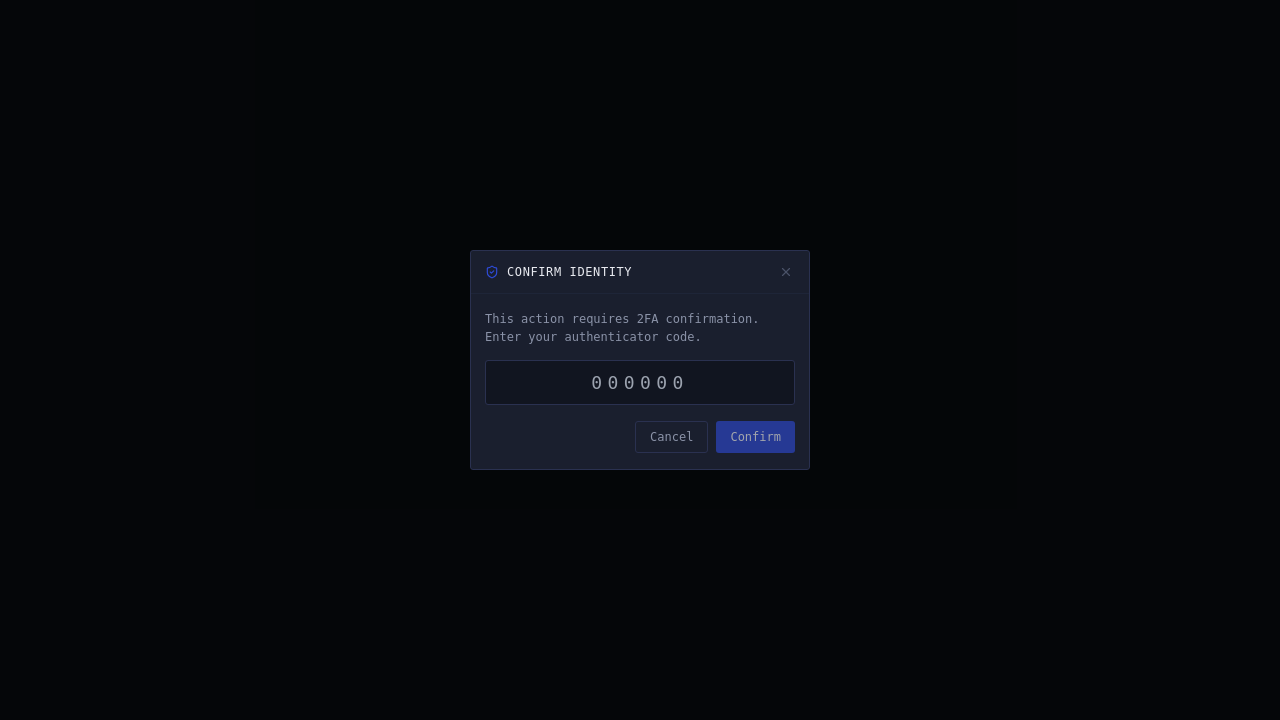
Test: StepUpModal — Confirm button gate › should enable Confirm button only when exactly 6 digits are entered
Type "123456" into the field with placeholder "000000".
click(640, 382); type("123456")  # box [485,360,795,405]
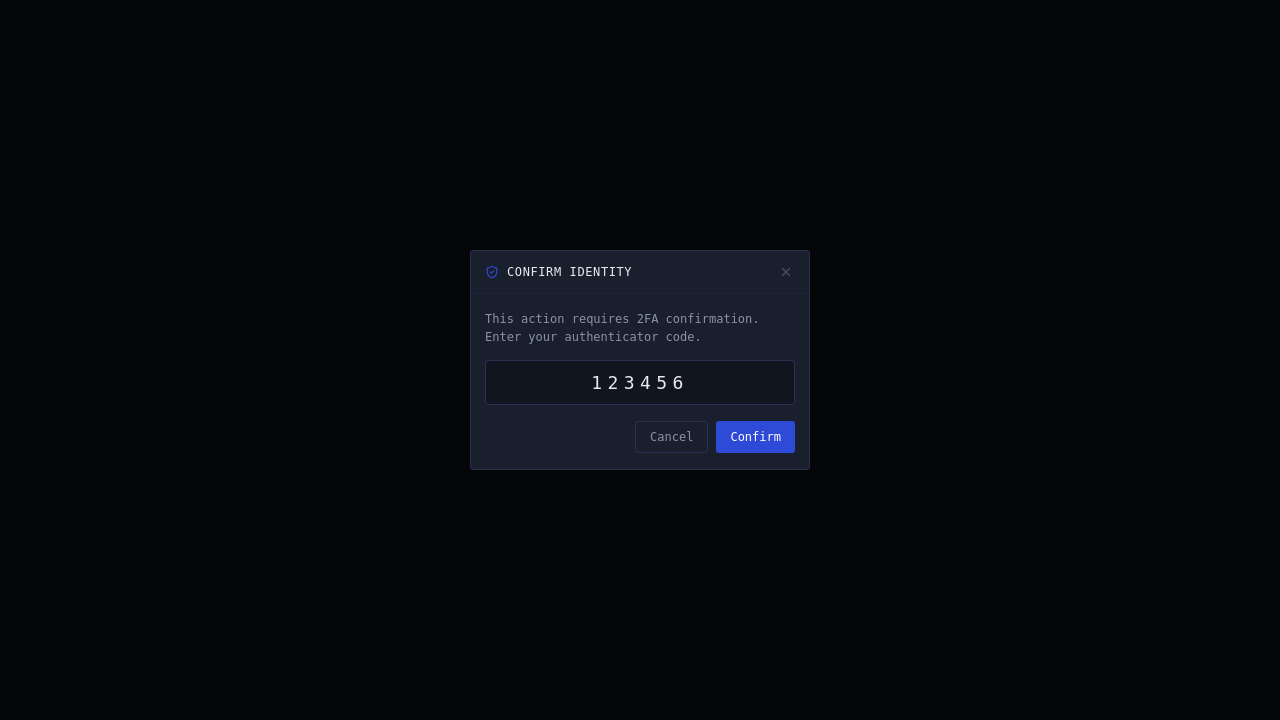
Result: the button "Confirm" is enabled at [716,421,795,453]
